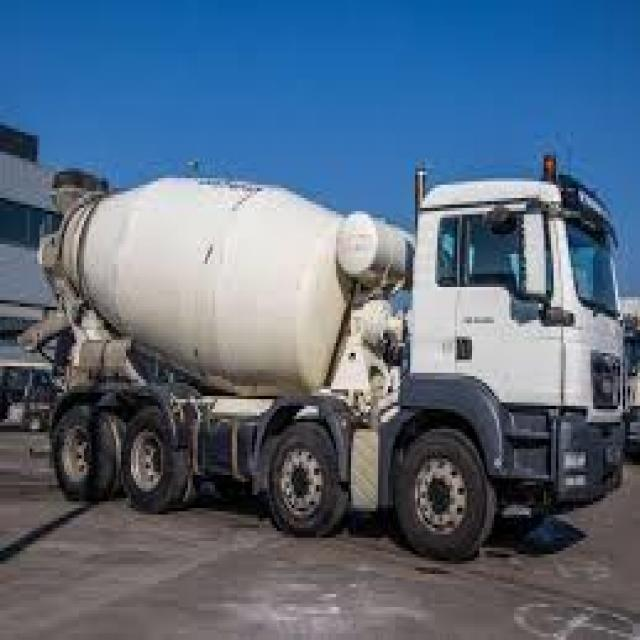Mixer Truck: (16, 164, 628, 567)
